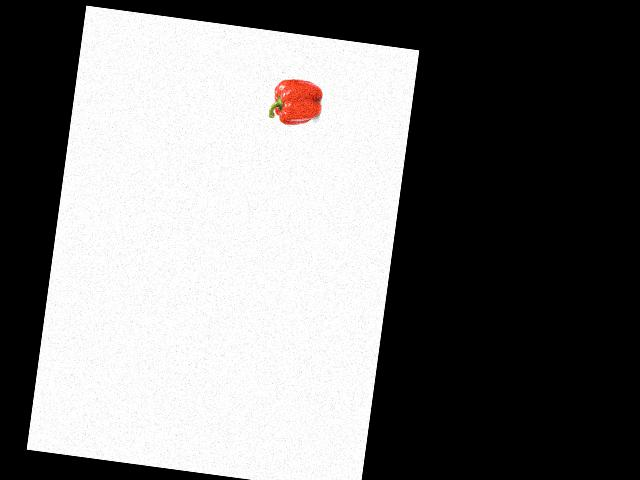bell_pepper: (266, 75, 325, 129)
